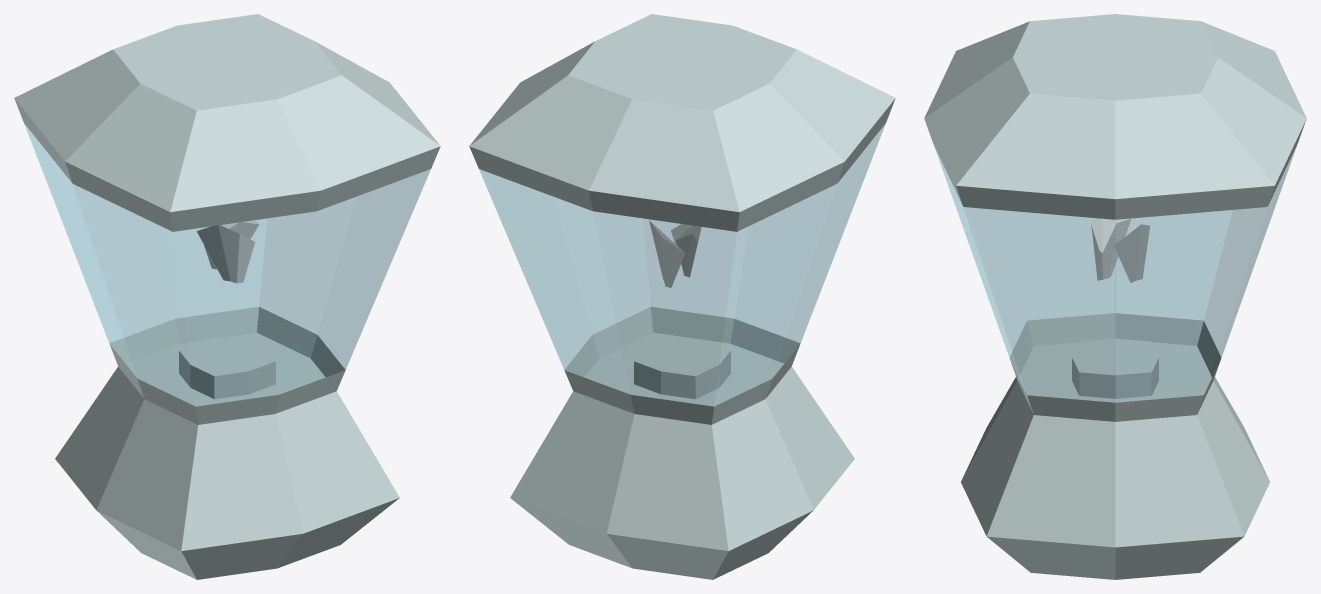
The model's file is blender.glb.
The picture shows the model from 3 angles, left to right: view 1: azimuth 30°, elevation 25°; view 2: azimuth 150°, elevation 25°; view 3: azimuth 270°, elevation 25°; orthographic projection. The views are drawn at different scales.
Visible parts, largest first — view 1: Cube, Cube.001; view 2: Cube, Cube.001; view 3: Cube, Cube.001.
Boxes of the visible parts, bbox=[...] form: Cube: bbox=[14, 14, 440, 579]; Cube.001: bbox=[196, 220, 259, 283]; Cube: bbox=[469, 14, 895, 579]; Cube.001: bbox=[649, 220, 701, 287]; Cube: bbox=[924, 14, 1306, 579]; Cube.001: bbox=[1091, 218, 1150, 282].
Bounding box in the file's own units: 4.52 × 6.25 × 4.52.
